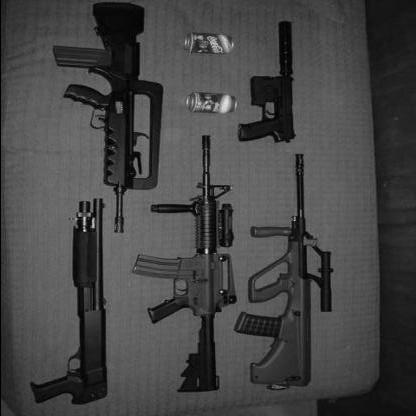rifle: (46, 0, 162, 248), (138, 132, 238, 405), (237, 145, 346, 395), (16, 201, 119, 406), (233, 14, 309, 160)
